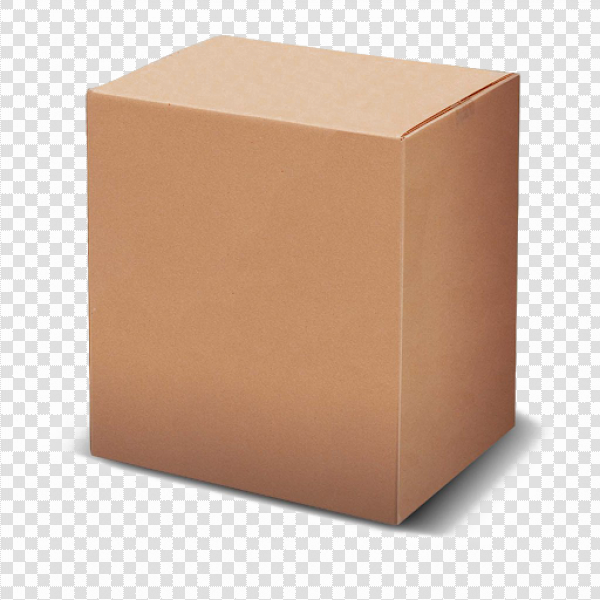package: (87, 35, 514, 526)
